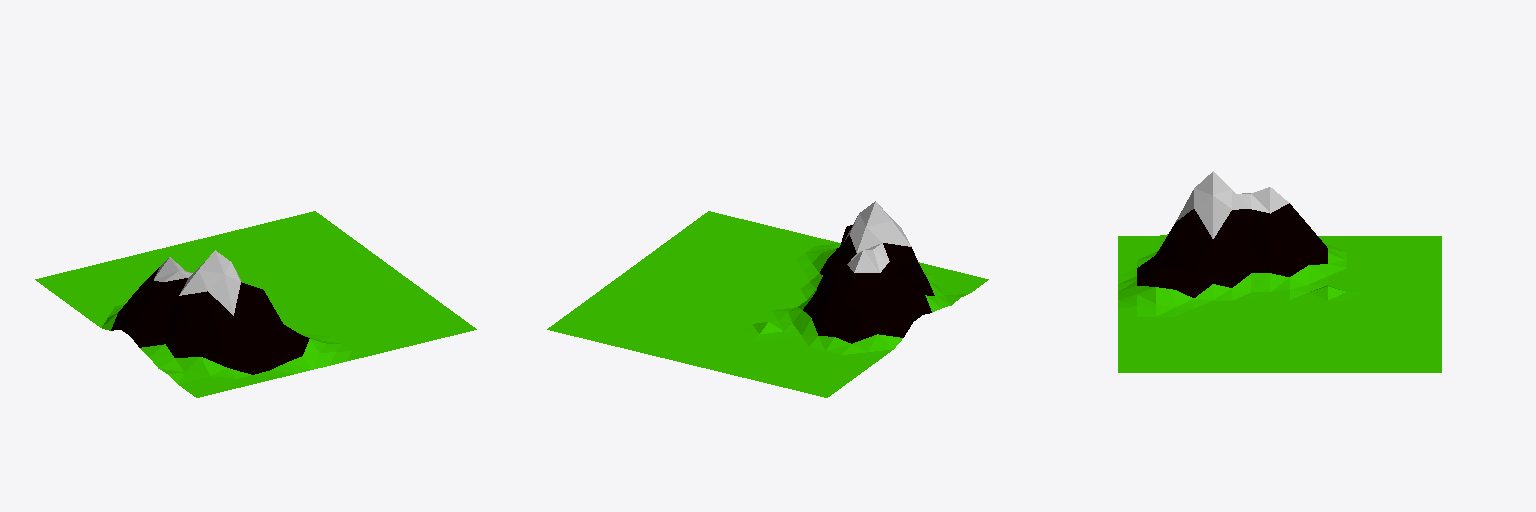
Rendered from mountain.obj.
3 views of the same model, side by side, from view 1: azimuth 30°, elevation 25°; view 2: azimuth 150°, elevation 25°; view 3: azimuth 270°, elevation 25° (orthographic).
Visible parts, largest first — view 1: 平面; view 2: 平面; view 3: 平面.
Part boxes in pixels (x1,y1,x2,y2): 平面: (35,211,476,397); 平面: (547,201,988,397); 平面: (1118,171,1441,372).
Bounding box in the file's own units: 16 × 5.29 × 16.